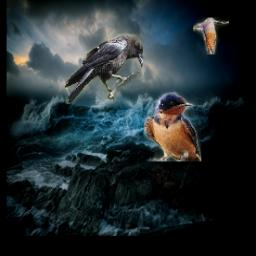Crow: (65, 33, 143, 104)
Cuckoo: (194, 18, 230, 55)
Swallow: (144, 93, 201, 162)
